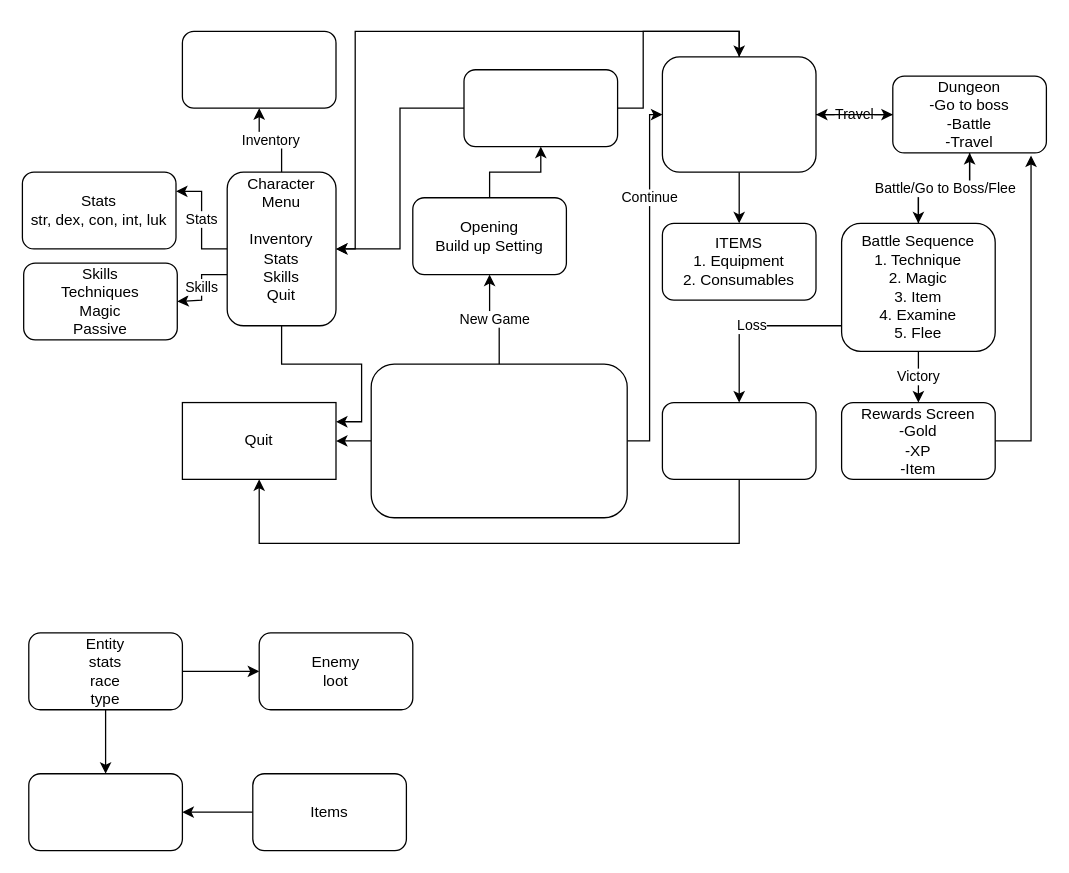
Image size: 1069x873. Some labels were removed from this diagram. The shapes that lost their labels are listed below. From the top down, each one's centre as x and y in pixels, then its label:
At (258,69): "Inventory -Gold -Equipment -Consumables".
At (540,107): "Character Creation".
At (738,114): "Town Menu -Character -Shop -Travel".
At (498,440): "Title Screen (Main Menu) New Game Continue Quit".
At (738,440): "Game Over deleteSave()".
At (105,811): "Player inventory skills".
